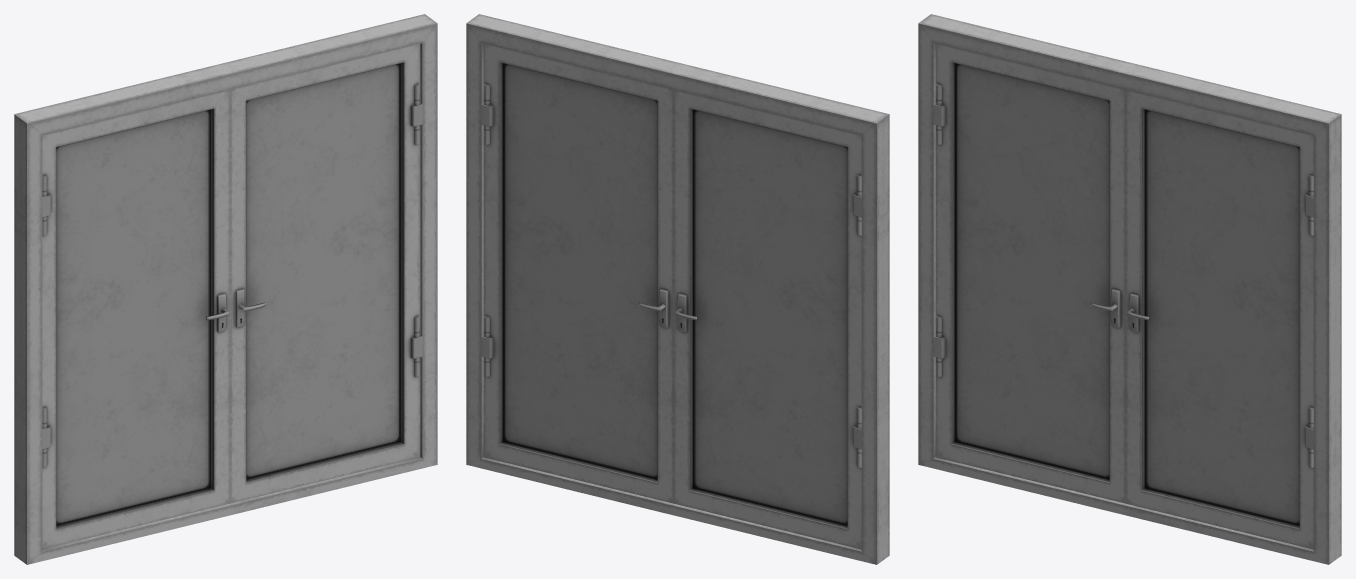
File: Warehouse Office Door 5 B.fbx
3 views of the same model, side by side, from view 1: azimuth 30°, elevation 25°; view 2: azimuth 150°, elevation 25°; view 3: azimuth 330°, elevation 25° (orthographic).
Parts seen in each view (by area): view 1: WH_Office_Door_5_B_Base (×2), WH_Office_Door_5_B_Door_Frame; view 2: WH_Office_Door_5_B_Base (×2), WH_Office_Door_5_B_Door_Frame; view 3: WH_Office_Door_5_B_Base (×2), WH_Office_Door_5_B_Door_Frame.
Part boxes in pixels (x1,y1,x2,y2): WH_Office_Door_5_B_Base (×2): (42,44,422,549); WH_Office_Door_5_B_Door_Frame: (14,14,437,564); WH_Office_Door_5_B_Base (×2): (481,44,861,549); WH_Office_Door_5_B_Door_Frame: (466,14,889,564); WH_Office_Door_5_B_Base (×2): (933,44,1313,549); WH_Office_Door_5_B_Door_Frame: (918,14,1341,564).
Size of the model in its own units: 214 by 220 by 20.02.
